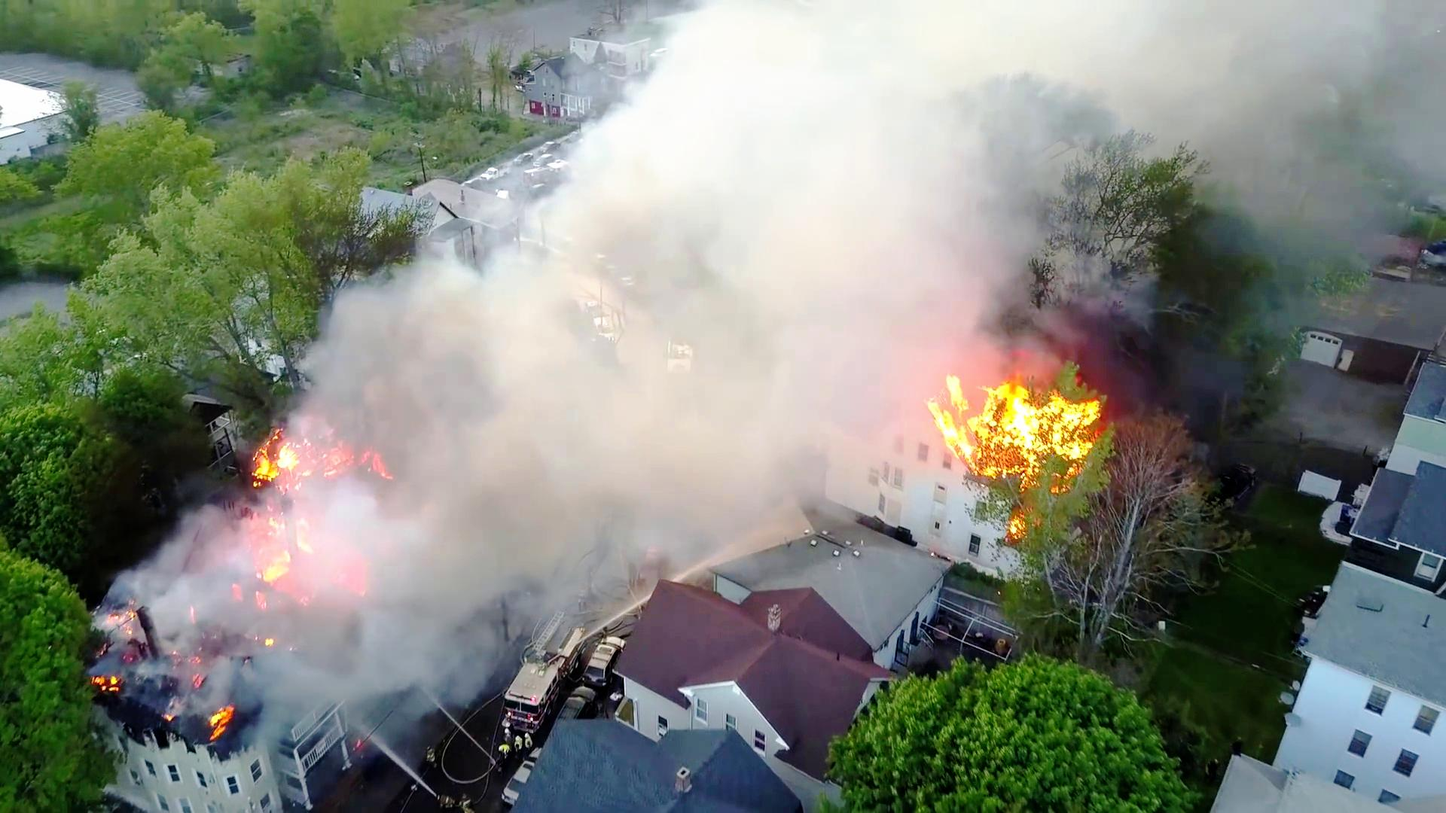fire: (930, 358, 1090, 476), (256, 414, 394, 493)
